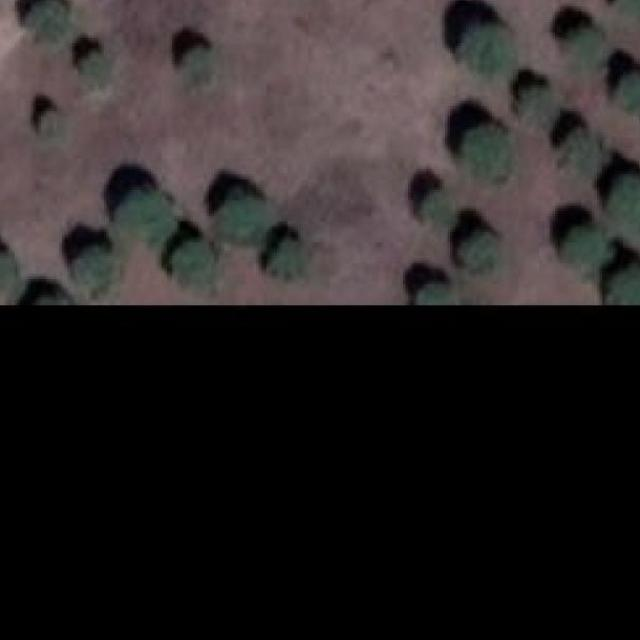Tree: (558, 226, 614, 274), (219, 195, 270, 246), (464, 125, 511, 180), (118, 188, 173, 235), (464, 22, 511, 75), (20, 0, 72, 43), (456, 230, 500, 277), (167, 240, 212, 282), (558, 132, 600, 174), (562, 24, 602, 64), (602, 264, 640, 304), (610, 174, 640, 224), (76, 244, 112, 284), (521, 88, 553, 125), (180, 48, 212, 83), (274, 240, 303, 275), (81, 48, 105, 85), (616, 69, 640, 106), (0, 250, 20, 290), (39, 108, 65, 138), (413, 282, 450, 303), (424, 190, 450, 219), (618, 0, 640, 22)
